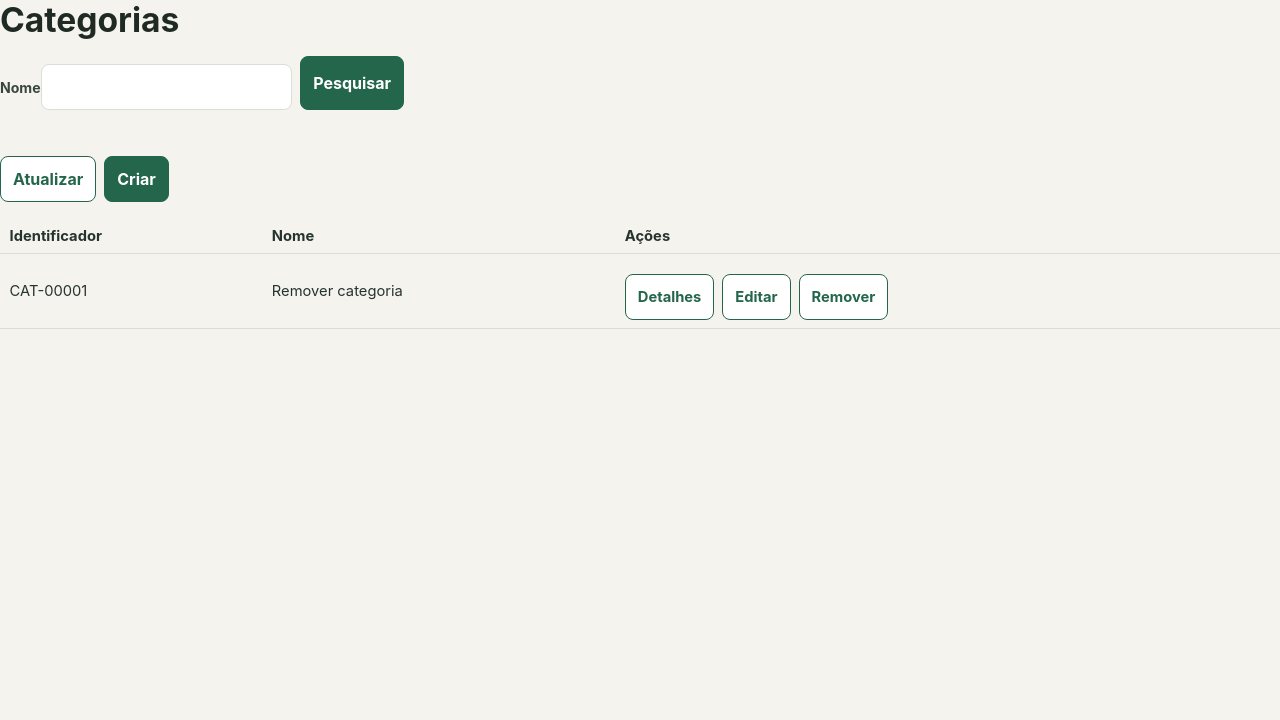
requires confirmation before removing a record and reloads after confirmation
Click the button "Remover".
click(844, 297)  # box [799,274,888,320]
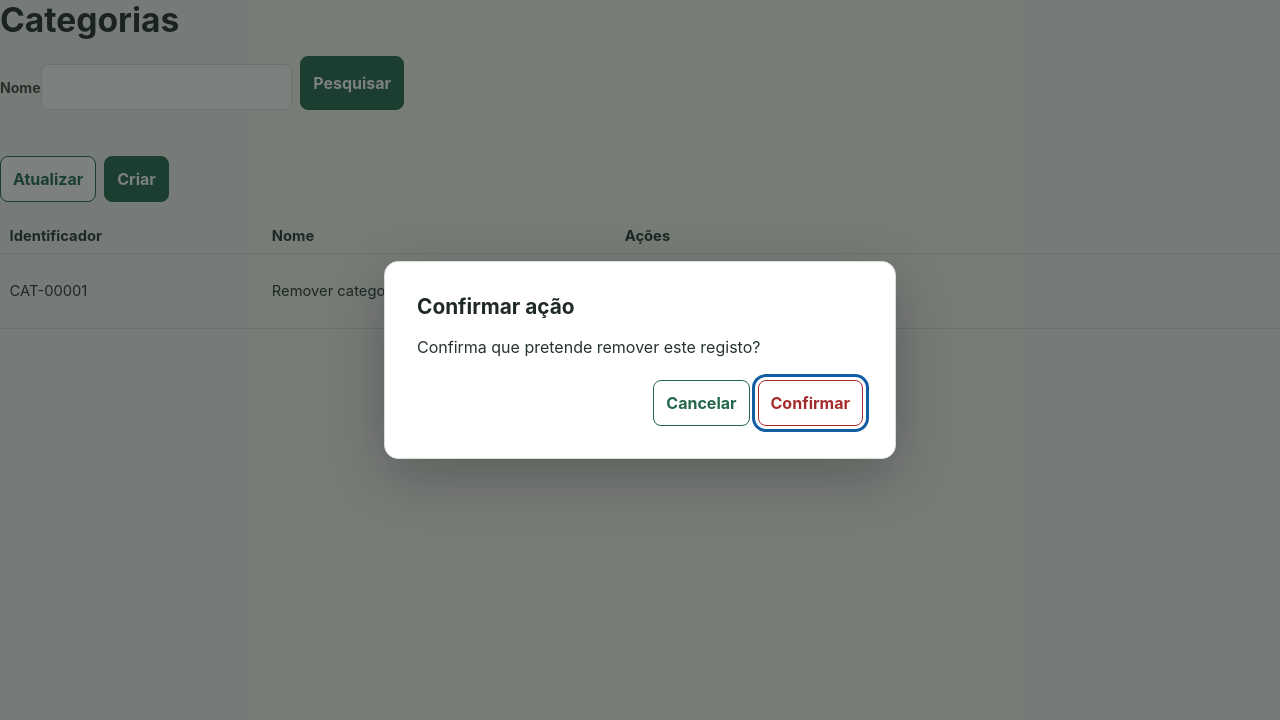
Expected: the text "Confirma que pretende remover este registo?" is shown, [417,337,760,357]
Click the button "Confirmar".
click(810, 403)  # box [758,380,863,426]
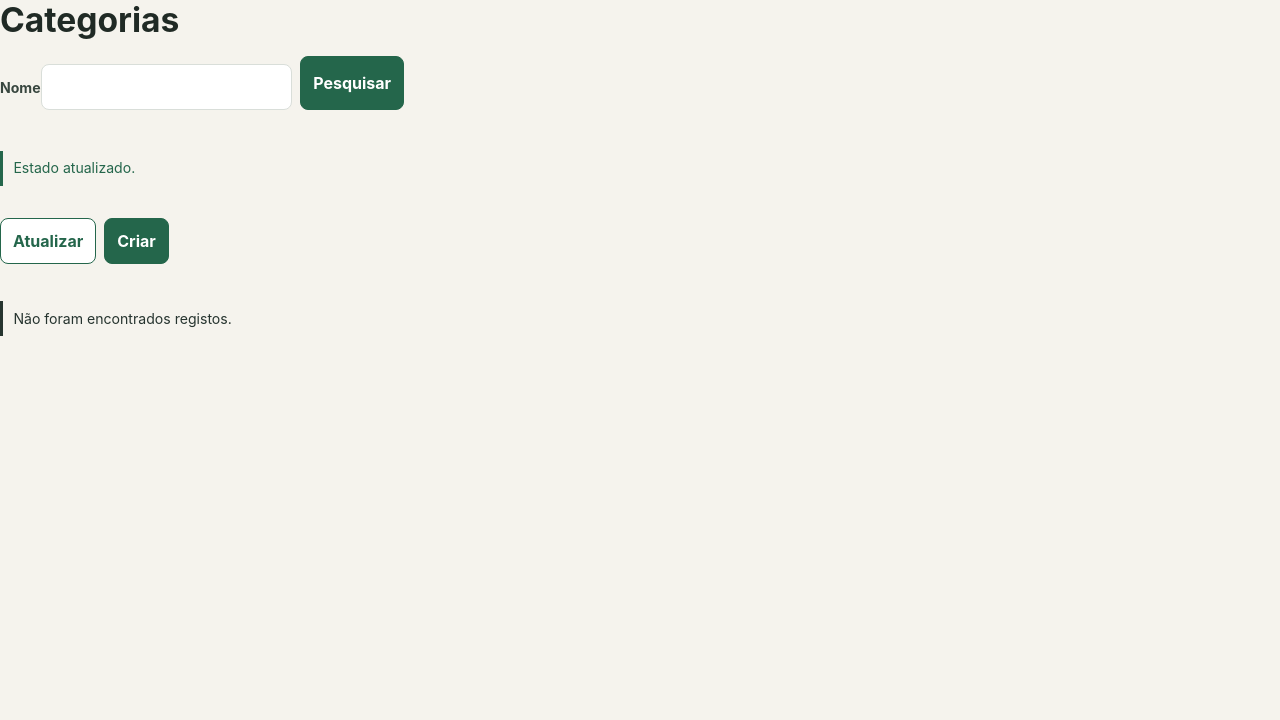
Expected: the text "Não foram encontrados registos." is shown, [0,302,1279,336]
